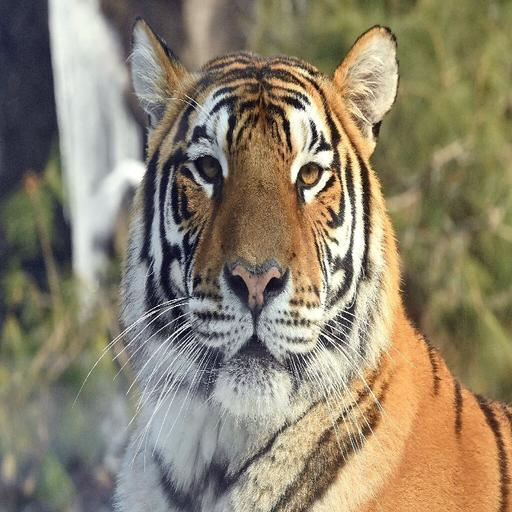Tiger: (66, 20, 512, 512)
